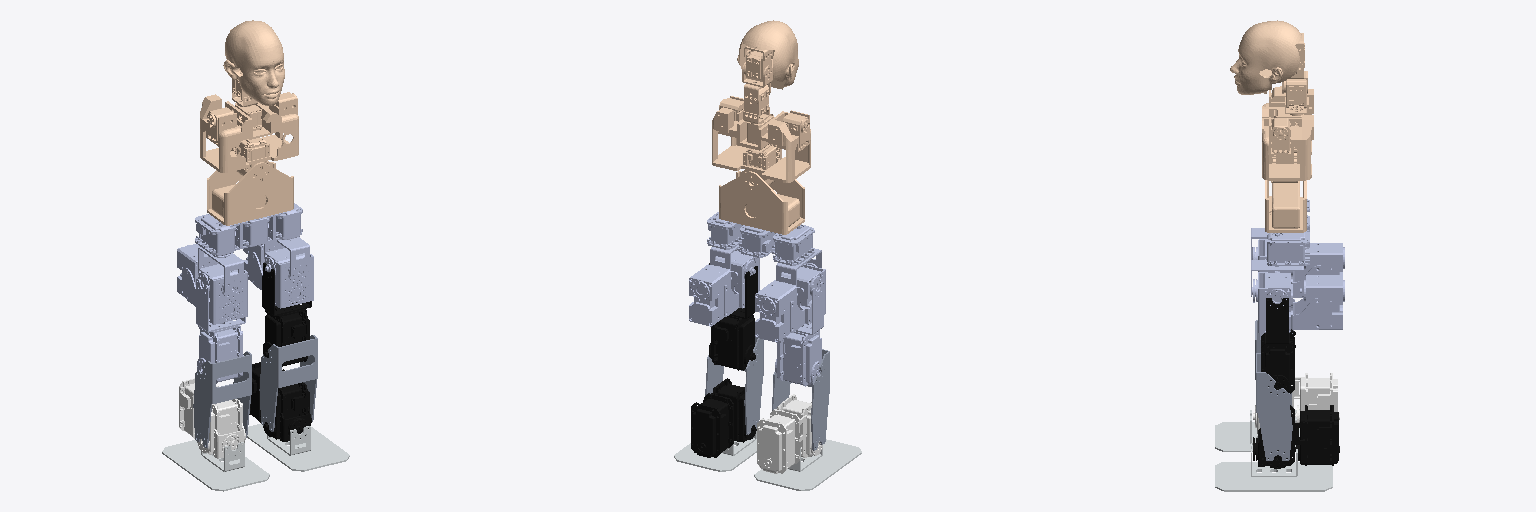
robot.urdf — rosayanew:
<?xml version="1.0" encoding="utf-8"?>
<!-- This URDF was automatically created by SolidWorks to URDF Exporter! Originally created by [author] ([email redacted]) 
     Commit Version: 1.6.0-4-g7f85cfe  Build Version: 1.6.7995.38578
     For more information, please see http://wiki.ros.org/sw_urdf_exporter -->
<robot
  name="rosayanew">
  <link
    name="base_link">
    <inertial>
      <origin
        xyz="-0.306947562256316 0.180831346156515 -0.235861998931365"
        rpy="0 0 0" />
      <mass
        value="0.219393180659538" />
      <inertia
        ixx="0.00010004950762791"
        ixy="7.22920991582236E-08"
        ixz="-6.78050760303754E-08"
        iyy="0.000157044861745445"
        iyz="7.9949089280851E-06"
        izz="0.000172559948538812" />
    </inertial>
    <visual>
      <origin
        xyz="0 0 0"
        rpy="0 0 0" />
      <geometry>
        <mesh
          filename="package://rosayanew/meshes/base_link.STL" />
      </geometry>
      <material
        name="">
        <color
          rgba="0.996078431372549 0.870588235294118 0.76078431372549 1" />
      </material>
    </visual>
    <collision>
      <origin
        xyz="0 0 0"
        rpy="0 0 0" />
      <geometry>
        <mesh
          filename="package://rosayanew/meshes/base_link.STL" />
      </geometry>
    </collision>
  </link>
  <link
    name="waist_link">
    <inertial>
      <origin
        xyz="-0.0120033988283798 0.0177864888210415 -0.00598432615626335"
        rpy="0 0 0" />
      <mass
        value="0.2530252141444" />
      <inertia
        ixx="6.88384358100404E-05"
        ixy="1.45994634010128E-13"
        ixz="-5.86676449969518E-13"
        iyy="0.000207131359720109"
        iyz="-1.37231915803419E-07"
        izz="0.000198692963522096" />
    </inertial>
    <visual>
      <origin
        xyz="0 0 0"
        rpy="0 0 0" />
      <geometry>
        <mesh
          filename="package://rosayanew/meshes/waist_link.STL" />
      </geometry>
      <material
        name="">
        <color
          rgba="0.996078431372549 0.870588235294118 0.76078431372549 1" />
      </material>
    </visual>
    <collision>
      <origin
        xyz="0 0 0"
        rpy="0 0 0" />
      <geometry>
        <mesh
          filename="package://rosayanew/meshes/waist_link.STL" />
      </geometry>
    </collision>
  </link>
  <joint
    name="waist_roll_joint"
    type="revolute">
    <origin
      xyz="-0.29478 0.22738 0.061112"
      rpy="1.5708 0.00053754 -0.00096153" />
    <parent
      link="base_link" />
    <child
      link="waist_link" />
    <axis
      xyz="0 0 0" />
    <limit
      lower="1.1345"
      upper="4.0143"
      effort="2.5"
      velocity="0" />
  </joint>
  <link
    name="hip_link">
    <inertial>
      <origin
        xyz="0.045659265971401 -0.0109874436586781 2.6747065720055E-05"
        rpy="0 0 0" />
      <mass
        value="0.139103984517577" />
      <inertia
        ixx="3.83635317106231E-05"
        ixy="-8.91501631202284E-13"
        ixz="1.24256231838675E-12"
        iyy="2.38932336791584E-05"
        iyz="-1.82745083203461E-07"
        izz="3.15364071298608E-05" />
    </inertial>
    <visual>
      <origin
        xyz="0 0 0"
        rpy="0 0 0" />
      <geometry>
        <mesh
          filename="package://rosayanew/meshes/hip_link.STL" />
      </geometry>
      <material
        name="">
        <color
          rgba="0.792156862745098 0.819607843137255 0.933333333333333 1" />
      </material>
    </visual>
    <collision>
      <origin
        xyz="0 0 0"
        rpy="0 0 0" />
      <geometry>
        <mesh
          filename="package://rosayanew/meshes/hip_link.STL" />
      </geometry>
    </collision>
  </link>
  <joint
    name="waist_yaw_joint"
    type="revolute">
    <origin
      xyz="-0.057739 -0.0216 0.0044704"
      rpy="1.5708 0.0011987 0" />
    <parent
      link="waist_link" />
    <child
      link="hip_link" />
    <axis
      xyz="0 0 0" />
    <limit
      lower="1.309"
      upper="3.6652"
      effort="2.5"
      velocity="0" />
  </joint>
  <link
    name="hipyaw_right_link">
    <inertial>
      <origin
        xyz="-0.00838599829268227 0.013118160719659 0.0118918013346213"
        rpy="0 0 0" />
      <mass
        value="0.00951579267272955" />
      <inertia
        ixx="1.41796406965292E-06"
        ixy="1.33317364146152E-11"
        ixz="2.72466604711063E-13"
        iyy="4.52777287280616E-06"
        iyz="4.07417695055598E-12"
        izz="4.84519368121065E-06" />
    </inertial>
    <visual>
      <origin
        xyz="0 0 0"
        rpy="0 0 0" />
      <geometry>
        <mesh
          filename="package://rosayanew/meshes/hipyaw_right_link.STL" />
      </geometry>
      <material
        name="">
        <color
          rgba="0.792156862745098 0.819607843137255 0.933333333333333 1" />
      </material>
    </visual>
    <collision>
      <origin
        xyz="0 0 0"
        rpy="0 0 0" />
      <geometry>
        <mesh
          filename="package://rosayanew/meshes/hipyaw_right_link.STL" />
      </geometry>
    </collision>
  </link>
  <joint
    name="hipyaw_right_joint"
    type="revolute">
    <origin
      xyz="-0.011879 0.015537 0.0236"
      rpy="1.5708 0 1.5708" />
    <parent
      link="hip_link" />
    <child
      link="hipyaw_right_link" />
    <axis
      xyz="0 0 0" />
    <limit
      lower="0"
      upper="0"
      effort="2.5"
      velocity="0" />
  </joint>
  <link
    name="hiproll_right_link">
    <inertial>
      <origin
        xyz="0.000304812182805536 -0.015386550233657 0.0317653464222177"
        rpy="0 0 0" />
      <mass
        value="0.189174580115534" />
      <inertia
        ixx="7.59556311007545E-05"
        ixy="-1.6209844739729E-07"
        ixz="3.0305474763736E-12"
        iyy="4.96123538313026E-05"
        iyz="-1.95920998057281E-07"
        izz="8.02606430077749E-05" />
    </inertial>
    <visual>
      <origin
        xyz="0 0 0"
        rpy="0 0 0" />
      <geometry>
        <mesh
          filename="package://rosayanew/meshes/hiproll_right_link.STL" />
      </geometry>
      <material
        name="">
        <color
          rgba="0.792156862745098 0.819607843137255 0.933333333333333 1" />
      </material>
    </visual>
    <collision>
      <origin
        xyz="0 0 0"
        rpy="0 0 0" />
      <geometry>
        <mesh
          filename="package://rosayanew/meshes/hiproll_right_link.STL" />
      </geometry>
    </collision>
  </link>
  <joint
    name="hiproll_right_joint"
    type="revolute">
    <origin
      xyz="-0.071738 0.0319 0.011893"
      rpy="-1.5708 -1.5703 -1.5708" />
    <parent
      link="hipyaw_right_link" />
    <child
      link="hiproll_right_link" />
    <axis
      xyz="0 0 0" />
    <limit
      lower="0"
      upper="0"
      effort="10.6"
      velocity="0" />
  </joint>
  <link
    name="hippitch_right_link">
    <inertial>
      <origin
        xyz="2.08787276276823E-05 -0.0349794020347895 -2.80136132935482E-05"
        rpy="0 0 0" />
      <mass
        value="0.0990788181535516" />
      <inertia
        ixx="3.65640945537559E-05"
        ixy="1.06282733016621E-06"
        ixz="2.3103234966177E-09"
        iyy="2.89113990297343E-05"
        iyz="-7.60422939043392E-09"
        izz="4.93830312783972E-05" />
    </inertial>
    <visual>
      <origin
        xyz="0 0 0"
        rpy="0 0 0" />
      <geometry>
        <mesh
          filename="package://rosayanew/meshes/hippitch_right_link.STL" />
      </geometry>
      <material
        name="">
        <color
          rgba="0.792156862745098 0.819607843137255 0.933333333333333 1" />
      </material>
    </visual>
    <collision>
      <origin
        xyz="0 0 0"
        rpy="0 0 0" />
      <geometry>
        <mesh
          filename="package://rosayanew/meshes/hippitch_right_link.STL" />
      </geometry>
    </collision>
  </link>
  <joint
    name="hiproll_right_joint"
    type="revolute">
    <origin
      xyz="-0.0001 -0.05633 0.05622"
      rpy="0 0 0" />
    <parent
      link="hiproll_right_link" />
    <child
      link="hippitch_right_link" />
    <axis
      xyz="0 0 0" />
    <limit
      lower="0"
      upper="0"
      effort="10.6"
      velocity="0" />
  </joint>
  <link
    name="kneepitch_right_link">
    <inertial>
      <origin
        xyz="0.0278887126914155 0.015100648472193 0.0520353980009107"
        rpy="0 0 0" />
      <mass
        value="0.019358226861366" />
      <inertia
        ixx="1.54337755283822E-05"
        ixy="4.16144873571443E-06"
        ixz="-2.11117442947292E-16"
        iyy="3.00375986139604E-05"
        iyz="1.3440399804828E-16"
        izz="2.14370365193728E-05" />
    </inertial>
    <visual>
      <origin
        xyz="0 0 0"
        rpy="0 0 0" />
      <geometry>
        <mesh
          filename="package://rosayanew/meshes/kneepitch_right_link.STL" />
      </geometry>
      <material
        name="">
        <color
          rgba="0.666666666666667 0.698039215686274 0.768627450980392 1" />
      </material>
    </visual>
    <collision>
      <origin
        xyz="0 0 0"
        rpy="0 0 0" />
      <geometry>
        <mesh
          filename="package://rosayanew/meshes/kneepitch_right_link.STL" />
      </geometry>
    </collision>
  </link>
  <joint
    name="kneepitch_right_joint"
    type="revolute">
    <origin
      xyz="0.052 -0.11807 0.02443"
      rpy="-1.5708 0 1.5708" />
    <parent
      link="hippitch_right_link" />
    <child
      link="kneepitch_right_link" />
    <axis
      xyz="0 0 0" />
    <limit
      lower="0"
      upper="0"
      effort="8.4"
      velocity="0" />
  </joint>
  <link
    name="anklepitch_right_link">
    <inertial>
      <origin
        xyz="0.00567317888375546 -0.0257156025337531 0.027388092396229"
        rpy="0 0 0" />
      <mass
        value="0.179157163367396" />
      <inertia
        ixx="6.2004999767118E-05"
        ixy="7.51338233265618E-07"
        ixz="1.41205104046991E-05"
        iyy="7.45909784988211E-05"
        iyz="-7.49407108094131E-07"
        izz="5.98575734823856E-05" />
    </inertial>
    <visual>
      <origin
        xyz="0 0 0"
        rpy="0 0 0" />
      <geometry>
        <mesh
          filename="package://rosayanew/meshes/anklepitch_right_link.STL" />
      </geometry>
      <material
        name="">
        <color
          rgba="1 1 1 1" />
      </material>
    </visual>
    <collision>
      <origin
        xyz="0 0 0"
        rpy="0 0 0" />
      <geometry>
        <mesh
          filename="package://rosayanew/meshes/anklepitch_right_link.STL" />
      </geometry>
    </collision>
  </link>
  <joint
    name="anklepitch_right_joint"
    type="revolute">
    <origin
      xyz="-0.033429 0.02443 0.0778"
      rpy="1.5708 0 2.3562" />
    <parent
      link="kneepitch_right_link" />
    <child
      link="anklepitch_right_link" />
    <axis
      xyz="0 0 0" />
    <limit
      lower="0"
      upper="0"
      effort="8.4"
      velocity="0" />
  </joint>
  <link
    name="angkleroll_right_link">
    <inertial>
      <origin
        xyz="-1.10045508816548E-09 -0.000938379078780305 -0.00784812984679401"
        rpy="0 0 0" />
      <mass
        value="0.0728910331350749" />
      <inertia
        ixx="3.33197131957481E-05"
        ixy="6.38168248520781E-15"
        ixz="2.71099083064066E-14"
        iyy="0.000132875198487612"
        iyz="1.64842453154727E-12"
        izz="0.000102630001589937" />
    </inertial>
    <visual>
      <origin
        xyz="0 0 0"
        rpy="0 0 0" />
      <geometry>
        <mesh
          filename="package://rosayanew/meshes/angkleroll_right_link.STL" />
      </geometry>
      <material
        name="">
        <color
          rgba="0.898039215686275 0.917647058823529 0.929411764705882 1" />
      </material>
    </visual>
    <collision>
      <origin
        xyz="0 0 0"
        rpy="0 0 0" />
      <geometry>
        <mesh
          filename="package://rosayanew/meshes/angkleroll_right_link.STL" />
      </geometry>
    </collision>
  </link>
  <joint
    name="right_end"
    type="revolute">
    <origin
      xyz="0.016984 -0.0258 -0.02308"
      rpy="1.5708 -0.7854 0" />
    <parent
      link="anklepitch_right_link" />
    <child
      link="angkleroll_right_link" />
    <axis
      xyz="0 0 0" />
    <limit
      lower="0"
      upper="0"
      effort="8.4"
      velocity="0" />
  </joint>
  <link
    name="hipyaw_left_link">
    <inertial>
      <origin
        xyz="-0.00778142425325382 0.014545720571261 0.0118929909746986"
        rpy="0 0 0" />
      <mass
        value="0.00873008666123984" />
      <inertia
        ixx="1.39480445278502E-06"
        ixy="1.3175032889771E-11"
        ixz="2.24130554117765E-14"
        iyy="4.48325716719759E-06"
        iyz="3.9175010276383E-12"
        izz="4.82203406699595E-06" />
    </inertial>
    <visual>
      <origin
        xyz="0 0 0"
        rpy="0 0 0" />
      <geometry>
        <mesh
          filename="package://rosayanew/meshes/hipyaw_left_link.STL" />
      </geometry>
      <material
        name="">
        <color
          rgba="0.792156862745098 0.819607843137255 0.933333333333333 1" />
      </material>
    </visual>
    <collision>
      <origin
        xyz="0 0 0"
        rpy="0 0 0" />
      <geometry>
        <mesh
          filename="package://rosayanew/meshes/hipyaw_left_link.STL" />
      </geometry>
    </collision>
  </link>
  <joint
    name="hipyaw_left_joint"
    type="revolute">
    <origin
      xyz="0.07944 0.015537 0.0236"
      rpy="1.5708 0 1.5708" />
    <parent
      link="hip_link" />
    <child
      link="hipyaw_left_link" />
    <axis
      xyz="0 0 0" />
    <limit
      lower="0"
      upper="0"
      effort="2.5"
      velocity="0" />
  </joint>
  <link
    name="hiproll_left_link">
    <inertial>
      <origin
        xyz="-0.000304805225546378 -0.0153865430621968 -0.0244546533014944"
        rpy="0 0 0" />
      <mass
        value="0.189174580115534" />
      <inertia
        ixx="7.59556311007334E-05"
        ixy="1.61668649292748E-07"
        ixz="3.07184673367949E-12"
        iyy="4.96123538313235E-05"
        iyz="-1.95920870251635E-07"
        izz="8.02606430077748E-05" />
    </inertial>
    <visual>
      <origin
        xyz="0 0 0"
        rpy="0 0 0" />
      <geometry>
        <mesh
          filename="package://rosayanew/meshes/hiproll_left_link.STL" />
      </geometry>
      <material
        name="">
        <color
          rgba="0.792156862745098 0.819607843137255 0.933333333333333 1" />
      </material>
    </visual>
    <collision>
      <origin
        xyz="0 0 0"
        rpy="0 0 0" />
      <geometry>
        <mesh
          filename="package://rosayanew/meshes/hiproll_left_link.STL" />
      </geometry>
    </collision>
  </link>
  <joint
    name="hiproll_left_joint"
    type="revolute">
    <origin
      xyz="-0.015518 0.0319 0.011893"
      rpy="-1.5708 -1.5703 -1.5708" />
    <parent
      link="hipyaw_left_link" />
    <child
      link="hiproll_left_link" />
    <axis
      xyz="0 0 0" />
    <limit
      lower="0"
      upper="0"
      effort="10.6"
      velocity="0" />
  </joint>
  <link
    name="hippitch_left_link">
    <inertial>
      <origin
        xyz="3.43481025328329E-05 -0.0215205979615125 2.08800832954825E-05"
        rpy="0 0 0" />
      <mass
        value="0.0990788181499381" />
      <inertia
        ixx="4.93830312738174E-05"
        ixy="-1.08850895861872E-08"
        ixz="2.31025007795923E-09"
        iyy="2.89113990277142E-05"
        iyz="-1.06282713319469E-06"
        izz="3.65640945484382E-05" />
    </inertial>
    <visual>
      <origin
        xyz="0 0 0"
        rpy="0 0 0" />
      <geometry>
        <mesh
          filename="package://rosayanew/meshes/hippitch_left_link.STL" />
      </geometry>
      <material
        name="">
        <color
          rgba="0.109803921568627 0.109803921568627 0.109803921568627 1" />
      </material>
    </visual>
    <collision>
      <origin
        xyz="0 0 0"
        rpy="0 0 0" />
      <geometry>
        <mesh
          filename="package://rosayanew/meshes/hippitch_left_link.STL" />
      </geometry>
    </collision>
  </link>
  <joint
    name="hippitch_left_joint"
    type="revolute">
    <origin
      xyz="0.0001 -0.11283 -0.00055805"
      rpy="-1.5708 1.5659 1.5708" />
    <parent
      link="hiproll_left_link" />
    <child
      link="hippitch_left_link" />
    <axis
      xyz="0 0 0" />
    <limit
      lower="0"
      upper="0"
      effort="10.6"
      velocity="0" />
  </joint>
  <link
    name="kneepitch_left_link">
    <inertial>
      <origin
        xyz="0.0278887116480027 0.0151006504025528 0.0520353980000031"
        rpy="0 0 0" />
      <mass
        value="0.0193582268613659" />
      <inertia
        ixx="1.543377495228E-05"
        ixy="4.16144772485331E-06"
        ixz="-1.54278105816216E-19"
        iyy="3.00375991900622E-05"
        iyz="1.86855964472666E-20"
        izz="2.14370365193727E-05" />
    </inertial>
    <visual>
      <origin
        xyz="0 0 0"
        rpy="0 0 0" />
      <geometry>
        <mesh
          filename="package://rosayanew/meshes/kneepitch_left_link.STL" />
      </geometry>
      <material
        name="">
        <color
          rgba="0.666666666666667 0.698039215686274 0.768627450980392 1" />
      </material>
    </visual>
    <collision>
      <origin
        xyz="0 0 0"
        rpy="0 0 0" />
      <geometry>
        <mesh
          filename="package://rosayanew/meshes/kneepitch_left_link.STL" />
      </geometry>
    </collision>
  </link>
  <joint
    name="kneepitch_left_joint"
    type="revolute">
    <origin
      xyz="-0.024752 0.061442 -0.052071"
      rpy="0 0 -1.5655" />
    <parent
      link="hippitch_left_link" />
    <child
      link="kneepitch_left_link" />
    <axis
      xyz="0 0 0" />
    <limit
      lower="0"
      upper="0"
      effort="8.4"
      velocity="0" />
  </joint>
  <link
    name="anklepitch_left_link">
    <inertial>
      <origin
        xyz="0.0230327225645484 -0.0152518011598849 -8.03501064945422E-05"
        rpy="0 0 0" />
      <mass
        value="0.180365939634211" />
      <inertia
        ixx="7.5189753481642E-05"
        ixy="1.07043118164786E-06"
        ixz="-1.36539040185384E-09"
        iyy="4.68805619815627E-05"
        iyz="-1.06446725690033E-06"
        izz="7.46607644099228E-05" />
    </inertial>
    <visual>
      <origin
        xyz="0 0 0"
        rpy="0 0 0" />
      <geometry>
        <mesh
          filename="package://rosayanew/meshes/anklepitch_left_link.STL" />
      </geometry>
      <material
        name="">
        <color
          rgba="0.109803921568627 0.109803921568627 0.109803921568627 1" />
      </material>
    </visual>
    <collision>
      <origin
        xyz="0 0 0"
        rpy="0 0 0" />
      <geometry>
        <mesh
          filename="package://rosayanew/meshes/anklepitch_left_link.STL" />
      </geometry>
    </collision>
  </link>
  <joint
    name="anklepitch_left_joint"
    type="revolute">
    <origin
      xyz="-0.033429 0.02443 0.052071"
      rpy="0 0 1.5705" />
    <parent
      link="kneepitch_left_link" />
    <child
      link="anklepitch_left_link" />
    <axis
      xyz="0 0 0" />
    <limit
      lower="0"
      upper="0"
      effort="8.4"
      velocity="0" />
  </joint>
  <link
    name="angkleroll_left_link">
    <inertial>
      <origin
        xyz="0.00862278550920814 0.00106162091787543 -0.0577888207345594"
        rpy="0 0 0" />
      <mass
        value="0.0728910331350737" />
      <inertia
        ixx="3.33197131957482E-05"
        ixy="-8.05973516420444E-16"
        ixz="2.70913544674232E-14"
        iyy="0.000132875198487611"
        iyz="1.64763668459555E-12"
        izz="0.000102630001589936" />
    </inertial>
    <visual>
      <origin
        xyz="0 0 0"
        rpy="0 0 0" />
      <geometry>
        <mesh
          filename="package://rosayanew/meshes/angkleroll_left_link.STL" />
      </geometry>
      <material
        name="">
        <color
          rgba="0.898039215686275 0.917647058823529 0.929411764705882 1" />
      </material>
    </visual>
    <collision>
      <origin
        xyz="0 0 0"
        rpy="0 0 0" />
      <geometry>
        <mesh
          filename="package://rosayanew/meshes/angkleroll_left_link.STL" />
      </geometry>
    </collision>
  </link>
  <joint
    name="left_end"
    type="revolute">
    <origin
      xyz="-0.012933 0.03033 -0.065637"
      rpy="3.1416 0 0" />
    <parent
      link="anklepitch_left_link" />
    <child
      link="angkleroll_left_link" />
    <axis
      xyz="0 0 0" />
    <limit
      lower="0"
      upper="0"
      effort="8.4"
      velocity="0" />
  </joint>
</robot>

--- Facts derived from the render (not from the file) ---
The picture shows the robot from 3 angles, left to right: view 1: azimuth 30°, elevation 25°; view 2: azimuth 150°, elevation 25°; view 3: azimuth 270°, elevation 25°; orthographic projection.
Model rosayanew with 15 links and 14 joints (14 revolute), rooted at base_link, posed all joints at 0 but 2 set to mid-range because 0 is outside their limits (waist_roll_joint = 2.57, waist_yaw_joint = 2.49).
Links seen in each view (by area): view 1: base_link, waist_link, hip_link, angkleroll_right_link, kneepitch_right_link, kneepitch_left_link, hiproll_right_link, angkleroll_left_link, anklepitch_right_link, hiproll_left_link, hippitch_right_link, hippitch_left_link (+3 smaller); view 2: base_link, waist_link, hiproll_right_link, anklepitch_left_link, anklepitch_right_link, hiproll_left_link, hip_link, hippitch_right_link, hippitch_left_link, angkleroll_right_link, kneepitch_right_link, kneepitch_left_link (+2 smaller); view 3: base_link, hiproll_left_link, angkleroll_left_link, anklepitch_left_link, kneepitch_left_link, hippitch_left_link, waist_link, hiproll_right_link, anklepitch_right_link, hip_link, angkleroll_right_link, hipyaw_left_link.
Link boxes in pixels (box(x1,y1,x2,y2)): base_link: box(200, 20, 298, 175); waist_link: box(207, 161, 293, 225); hip_link: box(195, 203, 302, 255); angkleroll_right_link: box(162, 440, 269, 491); kneepitch_right_link: box(193, 351, 251, 447); kneepitch_left_link: box(259, 335, 317, 431); hiproll_right_link: box(177, 244, 247, 324); angkleroll_left_link: box(247, 424, 349, 471); anklepitch_right_link: box(179, 378, 245, 458); hiproll_left_link: box(243, 244, 313, 308); hippitch_right_link: box(196, 279, 245, 383); hippitch_left_link: box(262, 263, 311, 366); base_link: box(712, 20, 810, 184); waist_link: box(719, 170, 804, 234); hiproll_right_link: box(755, 264, 825, 342); anklepitch_left_link: box(691, 378, 756, 457); anklepitch_right_link: box(757, 394, 822, 473); hiproll_left_link: box(689, 248, 759, 326); hip_link: box(707, 212, 814, 265); hippitch_right_link: box(775, 280, 823, 386); hippitch_left_link: box(709, 263, 757, 370); angkleroll_right_link: box(754, 439, 861, 490); kneepitch_right_link: box(772, 349, 829, 450); kneepitch_left_link: box(705, 337, 763, 434); base_link: box(1230, 20, 1313, 182); hiproll_left_link: box(1258, 272, 1344, 332); angkleroll_left_link: box(1215, 443, 1332, 491); anklepitch_left_link: box(1253, 405, 1339, 468); kneepitch_left_link: box(1256, 353, 1292, 460); hippitch_left_link: box(1261, 298, 1295, 394); waist_link: box(1265, 180, 1306, 232); hiproll_right_link: box(1258, 239, 1344, 297); anklepitch_right_link: box(1253, 373, 1339, 433); hip_link: box(1267, 199, 1309, 266); angkleroll_right_link: box(1215, 410, 1299, 451); hipyaw_left_link: box(1251, 260, 1303, 302).
Size in the robot's own frame: 0.1908 by 0.1551 by 0.5693 metres.
15 mesh visuals loaded from 15 distinct referenced files (15 binary STL).
